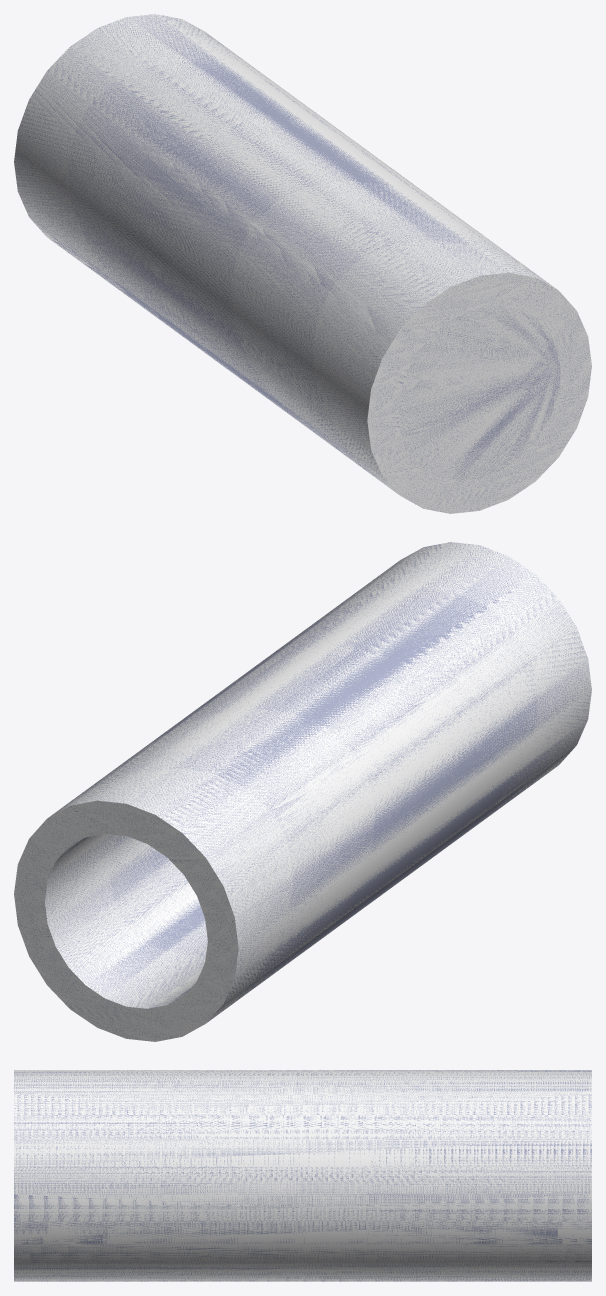
The model's file is cannon.fbx.
The picture shows the model from 3 angles, top to bottom: view 1: azimuth 30°, elevation 25°; view 2: azimuth 150°, elevation 25°; view 3: azimuth 270°, elevation 25°; orthographic projection. The views are drawn at different scales.
Visible parts, largest first — view 1: Model; view 2: Model; view 3: Model.
Boxes of the visible parts, x1=… form: Model: x1=14, y1=14, x2=591, y2=513; Model: x1=14, y1=542, x2=591, y2=1041; Model: x1=14, y1=1070, x2=591, y2=1281.
Size of the model in its own units: 60.62 by 60.62 by 165.
